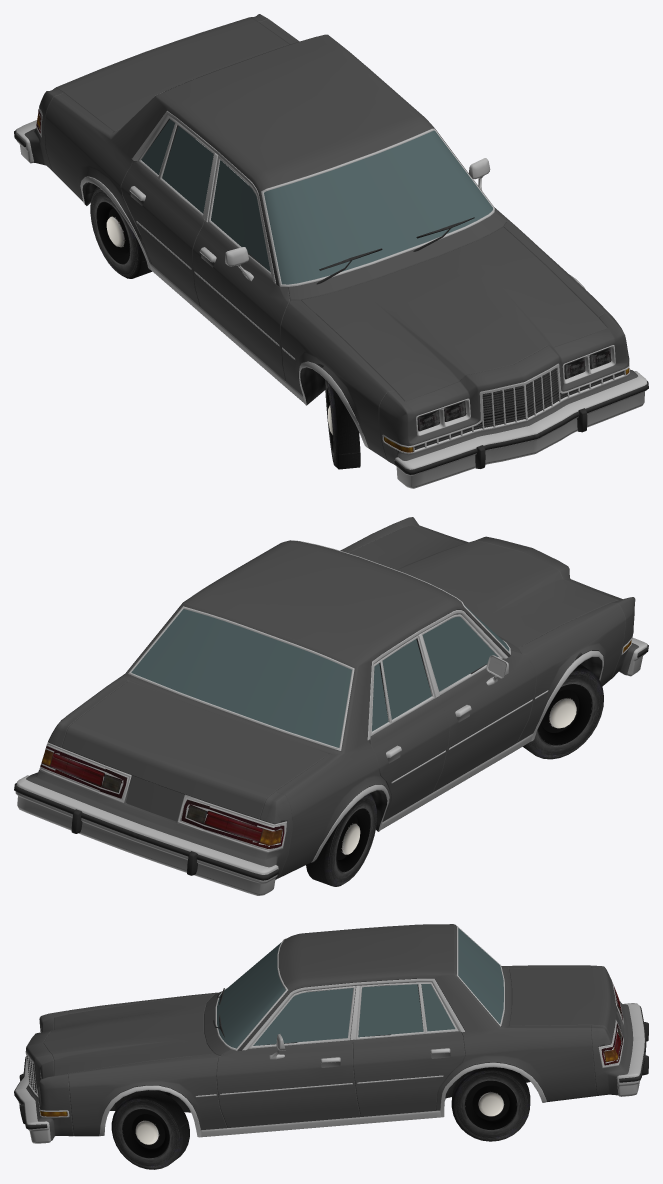
File: car_07.glb
The picture shows the model from 3 angles, top to bottom: view 1: azimuth 30°, elevation 25°; view 2: azimuth 150°, elevation 25°; view 3: azimuth 270°, elevation 25°; orthographic projection. The views are drawn at different scales.
Visible parts, largest first — view 1: Body003; view 2: Body003; view 3: Body003.
Boxes of the visible parts, <box> form: Body003: <box>14,14,648,488</box>; Body003: <box>14,517,648,895</box>; Body003: <box>14,924,648,1169</box>.
Bounding box in the file's own units: 2.3 × 1.96 × 5.73.
5 materials, 4 textured.
